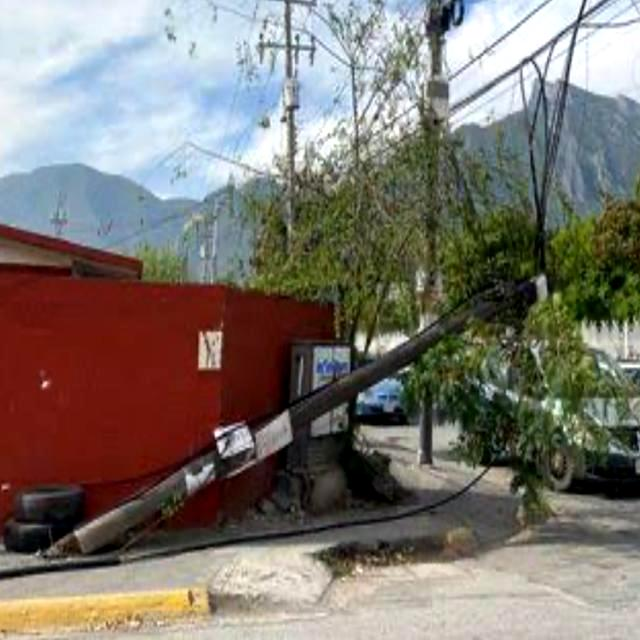Broken Pole: (65, 256, 548, 555)
